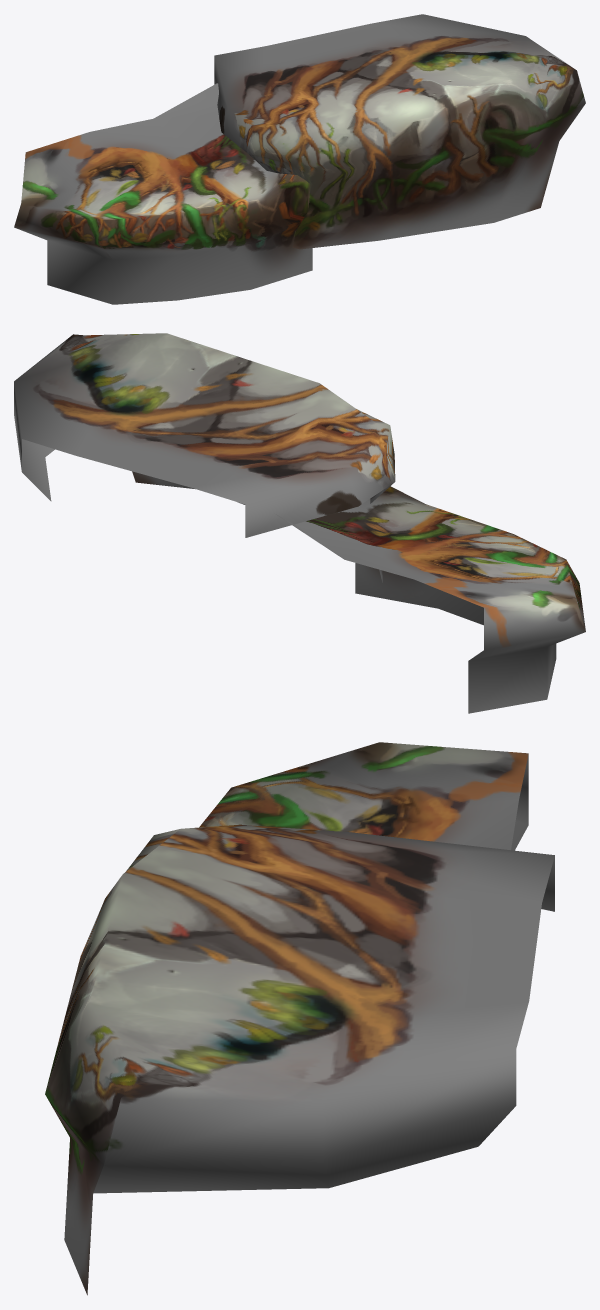
The model's file is taoshu_03.FBX.
3 renders of one model, top to bottom at view 1: azimuth 30°, elevation 25°; view 2: azimuth 150°, elevation 25°; view 3: azimuth 270°, elevation 25°, orthographic. The views are drawn at different scales.
Parts seen in each view (by area): view 1: taoshu_03; view 2: taoshu_03; view 3: taoshu_03.
Boxes of the visible parts, left/top/right/bottom form: taoshu_03: left=14, top=14, right=585, bottom=304; taoshu_03: left=14, top=333, right=585, bottom=713; taoshu_03: left=45, top=742, right=554, bottom=1295.
Size of the model in its own units: 135 by 41.22 by 59.22.
